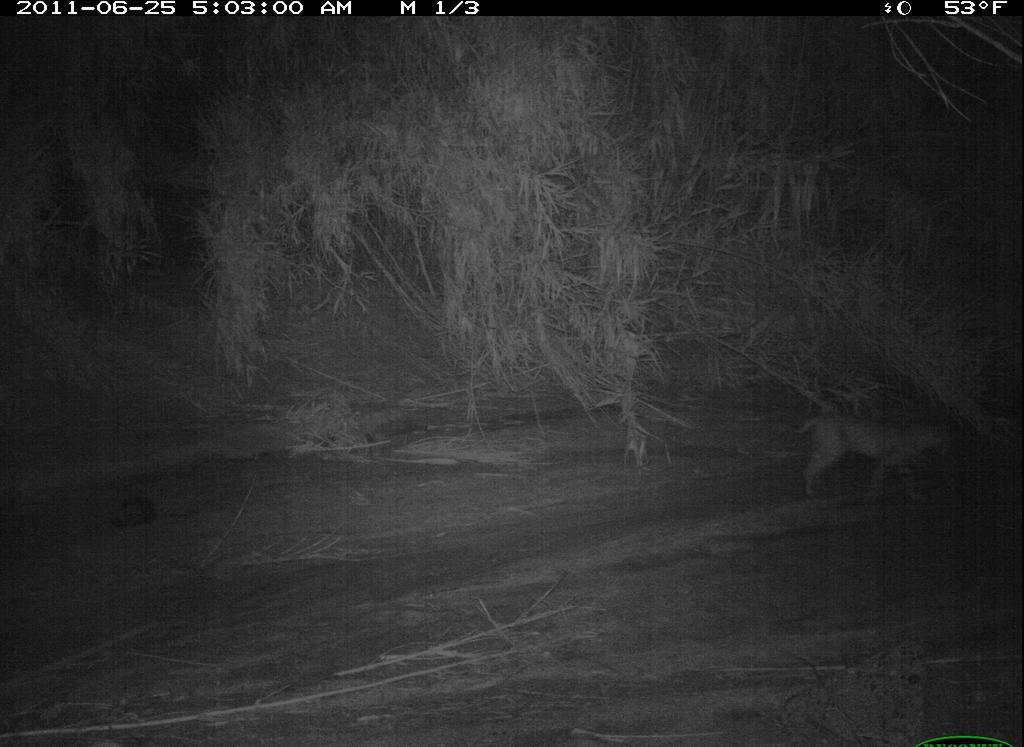bobcat: (788, 395, 967, 513)
